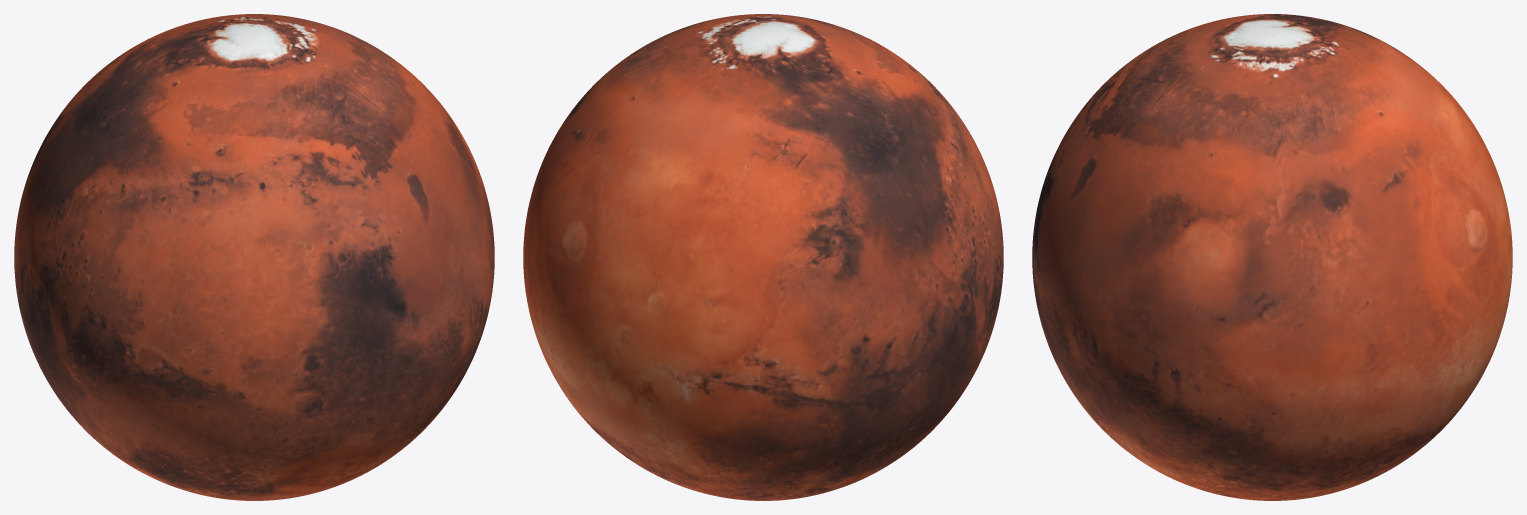
Rendered from Mars.fbx.
The picture shows the model from 3 angles, left to right: view 1: azimuth 30°, elevation 25°; view 2: azimuth 150°, elevation 25°; view 3: azimuth 270°, elevation 25°; orthographic projection.
Parts seen in each view (by area): view 1: pSphere1; view 2: pSphere1; view 3: pSphere1.
Part boxes in pixels (x1,y1,x2,y2): pSphere1: (14,14,494,500); pSphere1: (523,14,1003,500); pSphere1: (1032,14,1512,500).
Bounding box in the file's own units: 14.38 × 14.65 × 14.38.
Materials: 1 (1 with a texture image).
